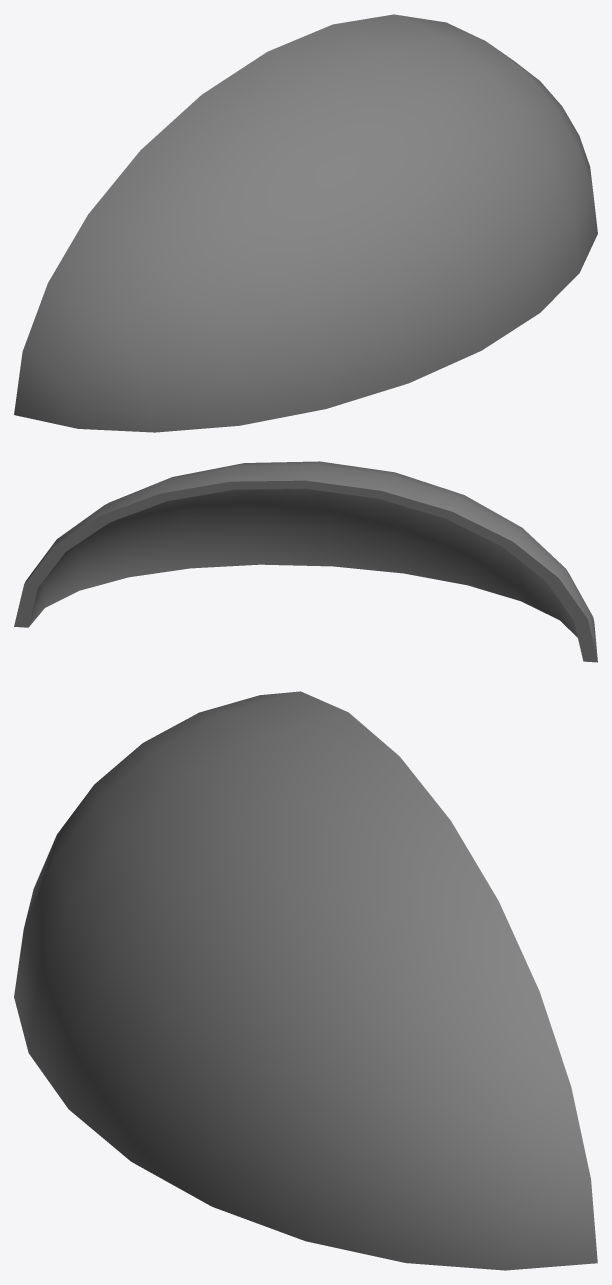
The model's file is Primitive_140-099-021__f3e3cb92-3bbc-4c1b-ab6a-042e3a57f397.dae.
3 views of the same model, one above another, from view 1: azimuth 30°, elevation 25°; view 2: azimuth 150°, elevation 25°; view 3: azimuth 270°, elevation 25° (orthographic). The views are drawn at different scales.
Parts seen in each view (by area): view 1: Primitive; view 2: Primitive; view 3: Primitive.
Boxes of the visible parts, x1,y1,x2,y2 form: Primitive: (14, 14, 597, 432); Primitive: (14, 461, 597, 662); Primitive: (14, 691, 597, 1270).
Bounding box in the file's own units: 20.56 × 11.89 × 6.68.
